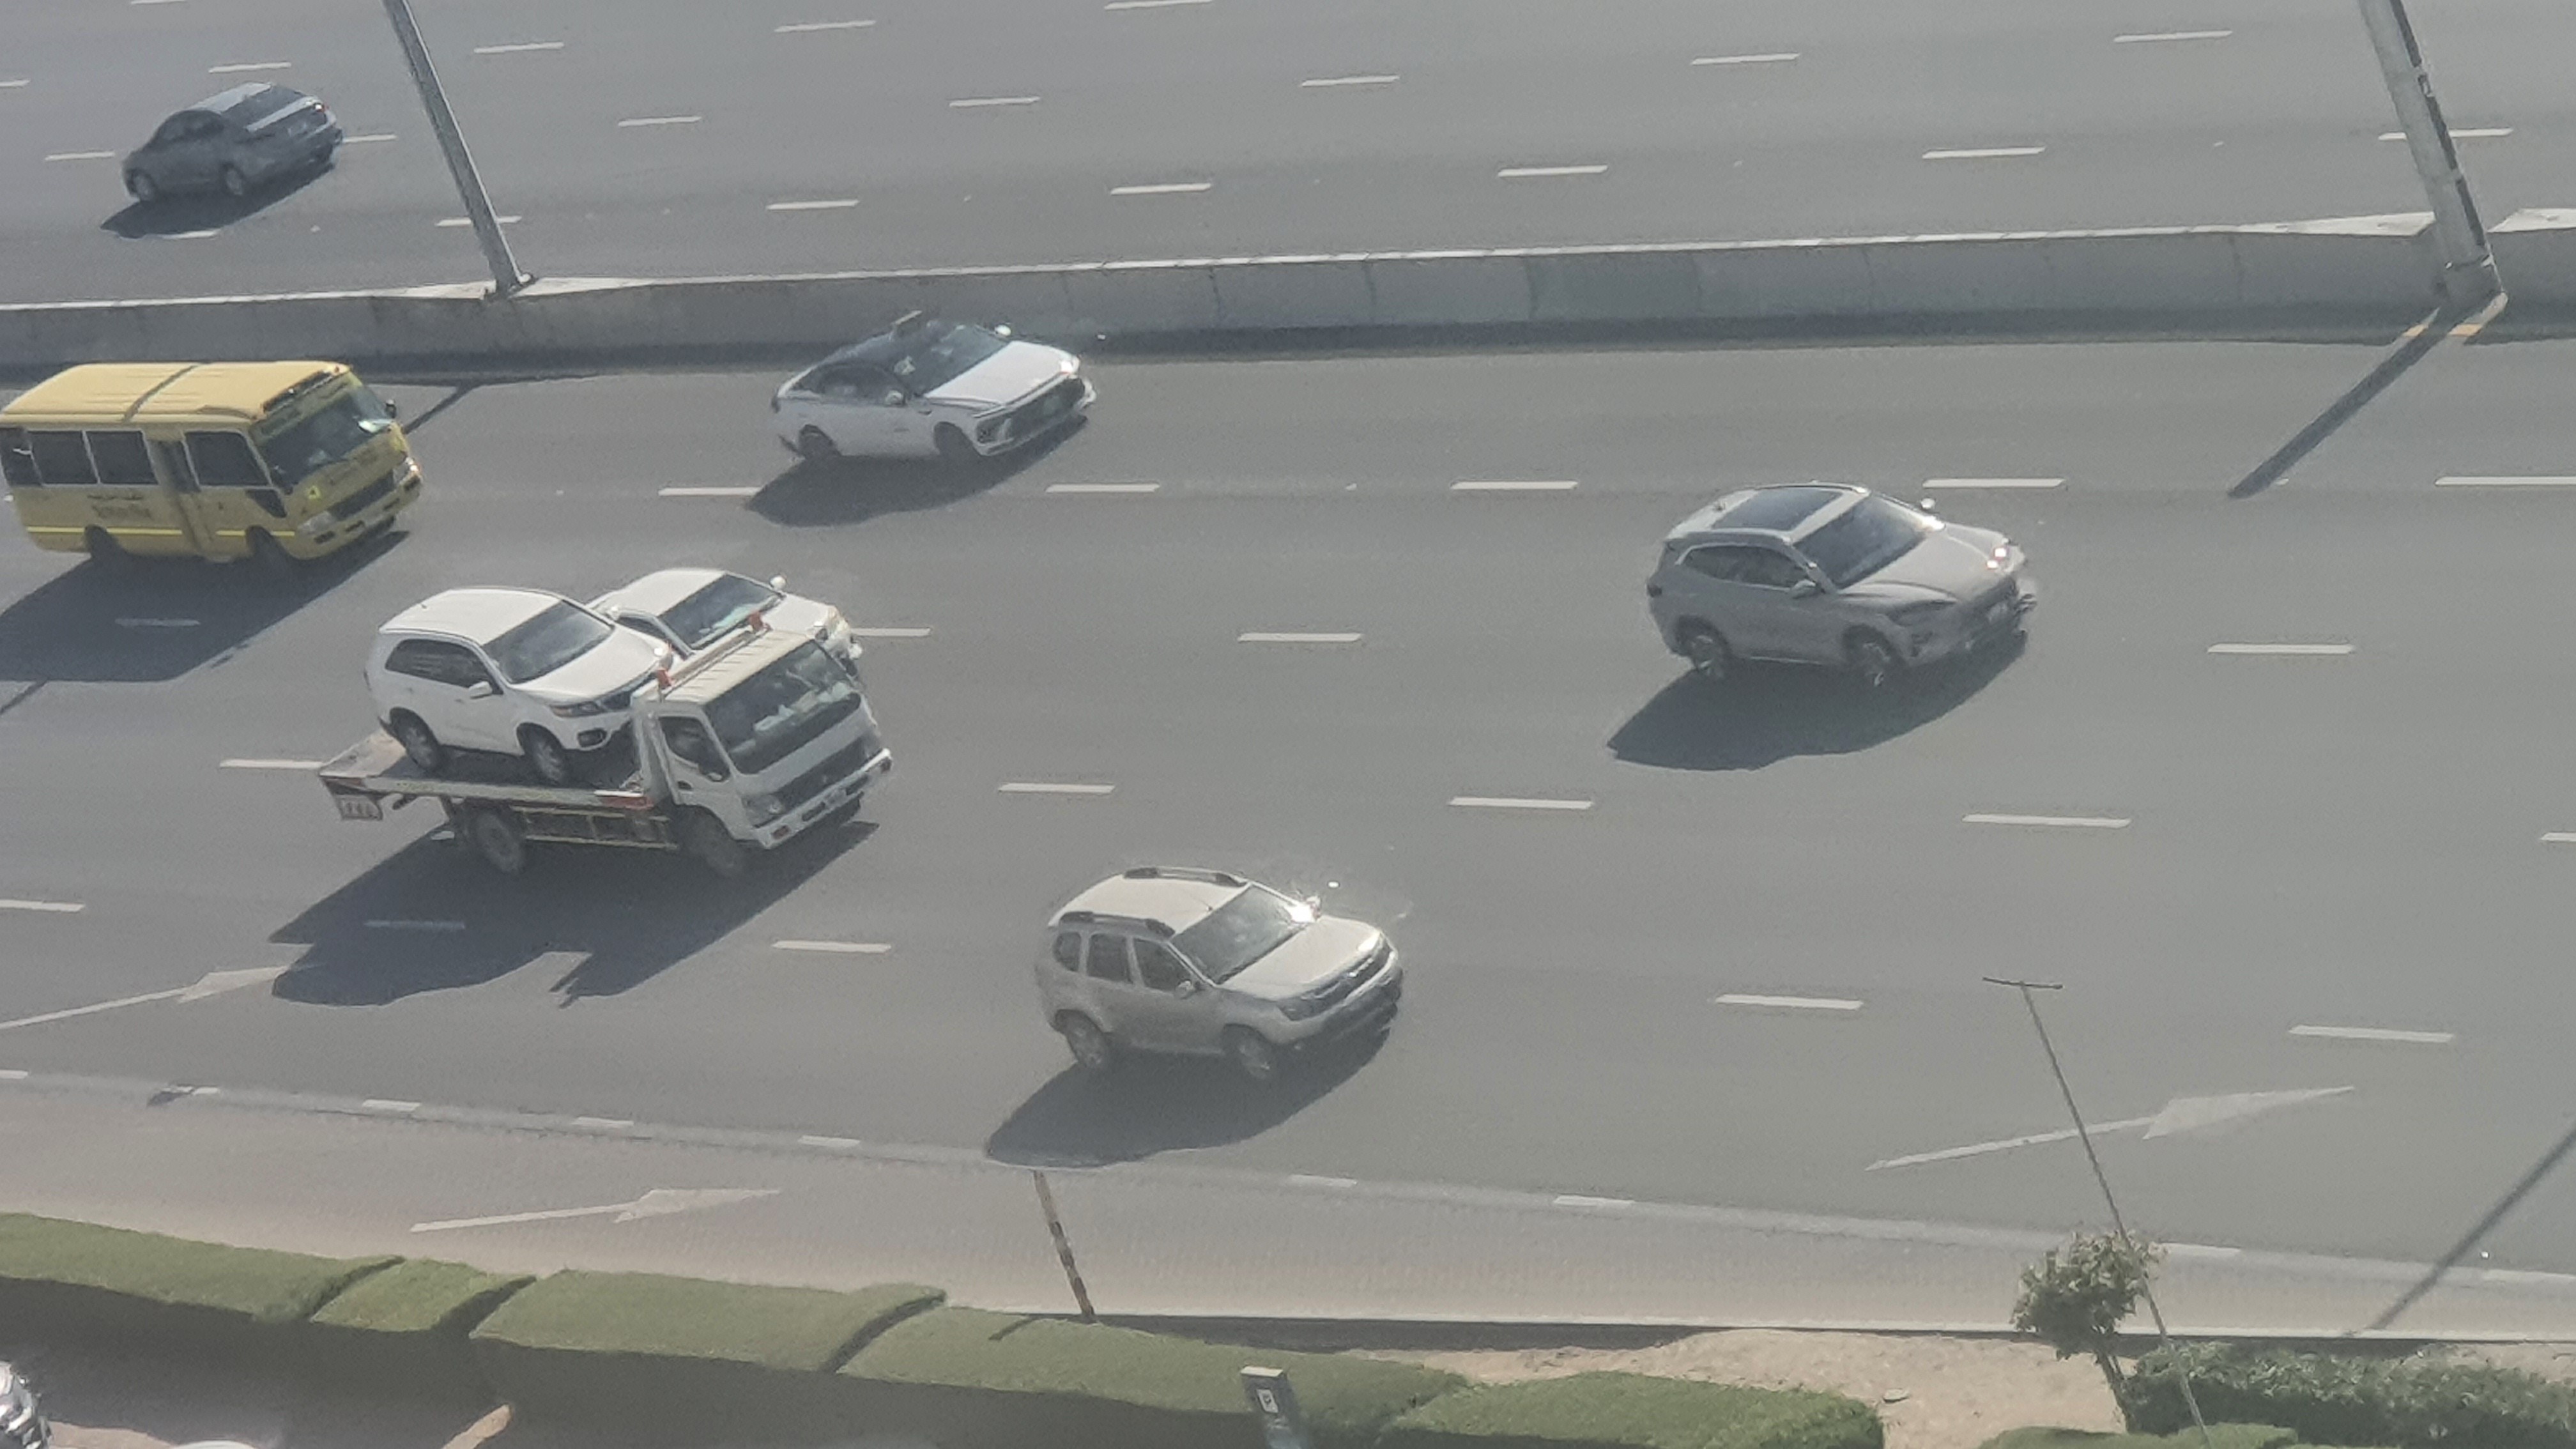NotSunroof: (1023, 844, 1408, 1095), (766, 306, 1099, 481), (364, 577, 646, 777), (591, 556, 851, 642)
Sunroof: (1645, 474, 2043, 686)
